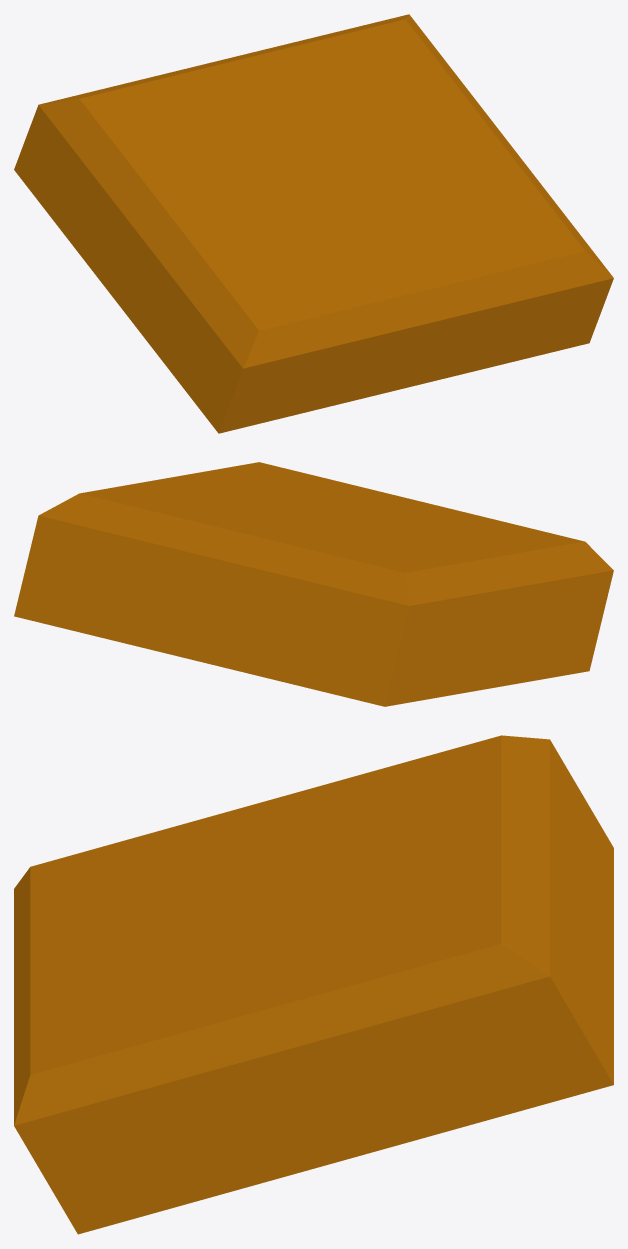
Rendered from yellow_button.glb.
3 views of the same model, one above another, from view 1: azimuth 30°, elevation 25°; view 2: azimuth 150°, elevation 25°; view 3: azimuth 270°, elevation 25° (orthographic). The views are drawn at different scales.
Parts seen in each view (by area): view 1: Yellow_Button; view 2: Yellow_Button; view 3: Yellow_Button.
Boxes of the visible parts, box(x1,y1,x2,y2) form: Yellow_Button: box(14, 14, 613, 433); Yellow_Button: box(14, 462, 613, 706); Yellow_Button: box(14, 735, 613, 1234).
Size of what is drawn, in the model's own units: 0.3156 by 0.1716 by 0.3376.
1 material, 1 textured.
